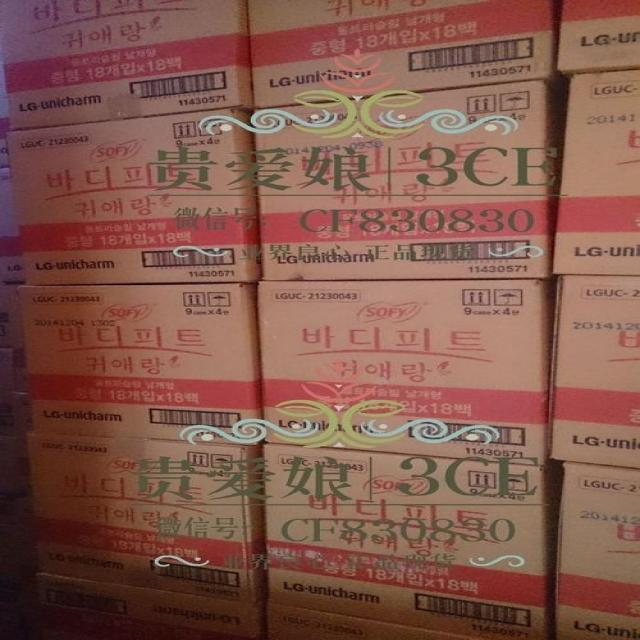box: (252, 77, 568, 279), (264, 443, 568, 637), (257, 273, 553, 463), (3, 109, 262, 285), (29, 429, 271, 603), (16, 283, 261, 443), (249, 1, 561, 111), (1, 1, 250, 126), (551, 69, 639, 277), (547, 274, 639, 471), (546, 463, 639, 639), (35, 571, 264, 637), (0, 427, 37, 637), (260, 601, 472, 637), (553, 1, 638, 76), (3, 285, 31, 429), (1, 123, 24, 285)
